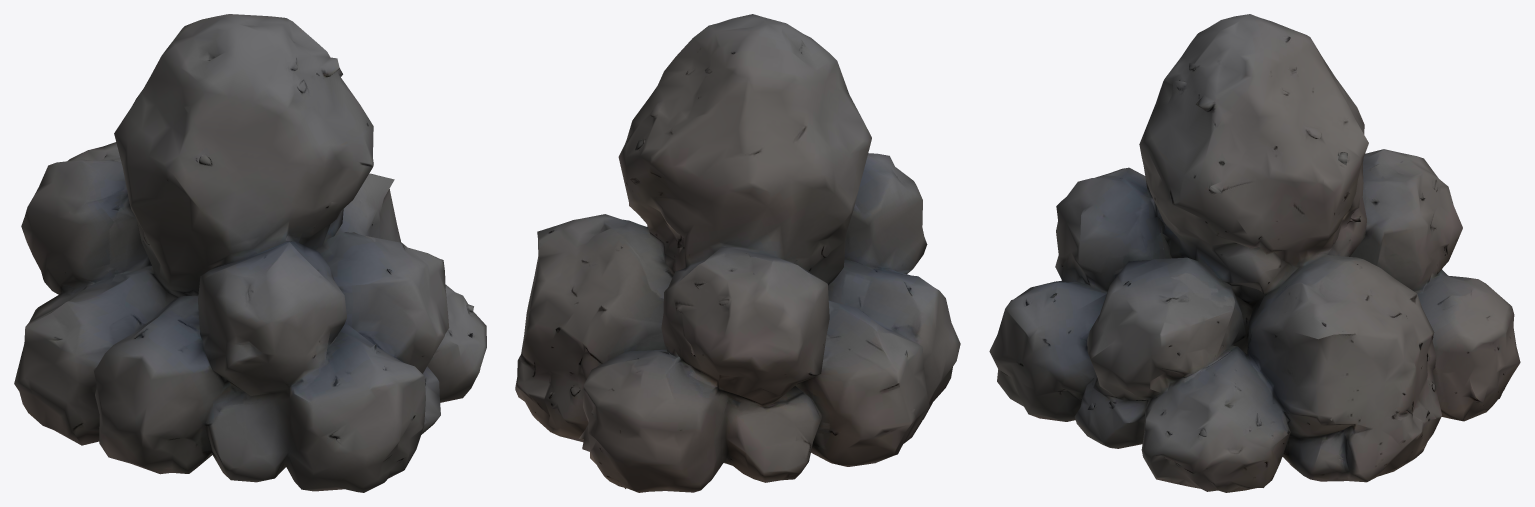
The model's file is rock_small.glb.
The picture shows the model from 3 angles, left to right: view 1: azimuth 30°, elevation 25°; view 2: azimuth 150°, elevation 25°; view 3: azimuth 270°, elevation 25°; orthographic projection. The views are drawn at different scales.
Parts seen in each view (by area): view 1: tripo_node_37efc9ef-0dcc-4870-ac25-4a578f0c040a; view 2: tripo_node_37efc9ef-0dcc-4870-ac25-4a578f0c040a; view 3: tripo_node_37efc9ef-0dcc-4870-ac25-4a578f0c040a.
Part boxes in pixels (x1,y1,x2,y2): tripo_node_37efc9ef-0dcc-4870-ac25-4a578f0c040a: (14,14,486,492); tripo_node_37efc9ef-0dcc-4870-ac25-4a578f0c040a: (515,14,960,492); tripo_node_37efc9ef-0dcc-4870-ac25-4a578f0c040a: (989,14,1520,492).
Size of the model in its own units: 0.868 by 0.7794 by 1.
1 material, 1 textured.
